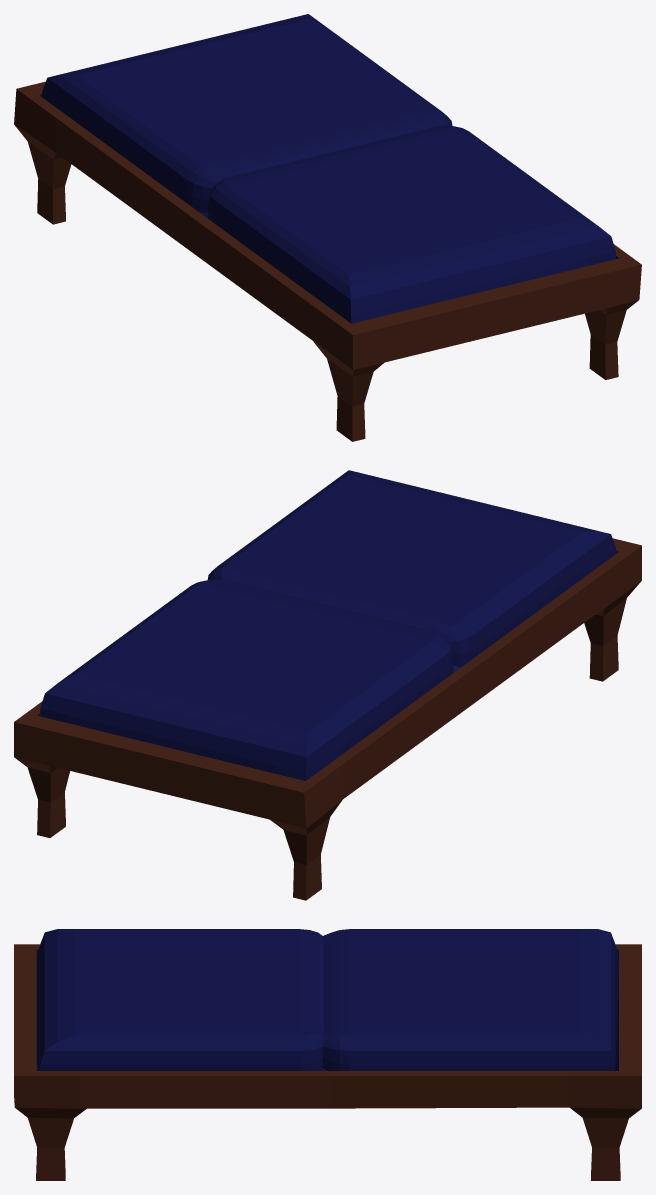
The model's file is bank.glb.
3 renders of one model, top to bottom at view 1: azimuth 30°, elevation 25°; view 2: azimuth 150°, elevation 25°; view 3: azimuth 270°, elevation 25°, orthographic. The views are drawn at different scales.
Visible parts, largest first — view 1: bank; view 2: bank; view 3: bank.
Boxes of the visible parts, x1,y1,x2,y2 form: bank: (14, 14, 641, 441); bank: (14, 470, 641, 900); bank: (14, 929, 641, 1180).
Bounding box in the file's own units: 1 × 0.4853 × 2.
